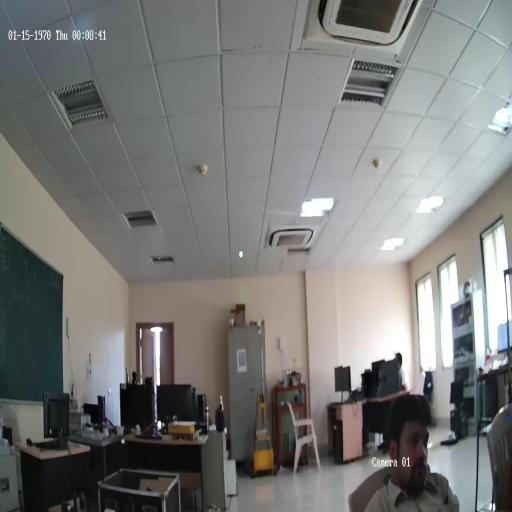laser: (239, 250, 243, 258)
